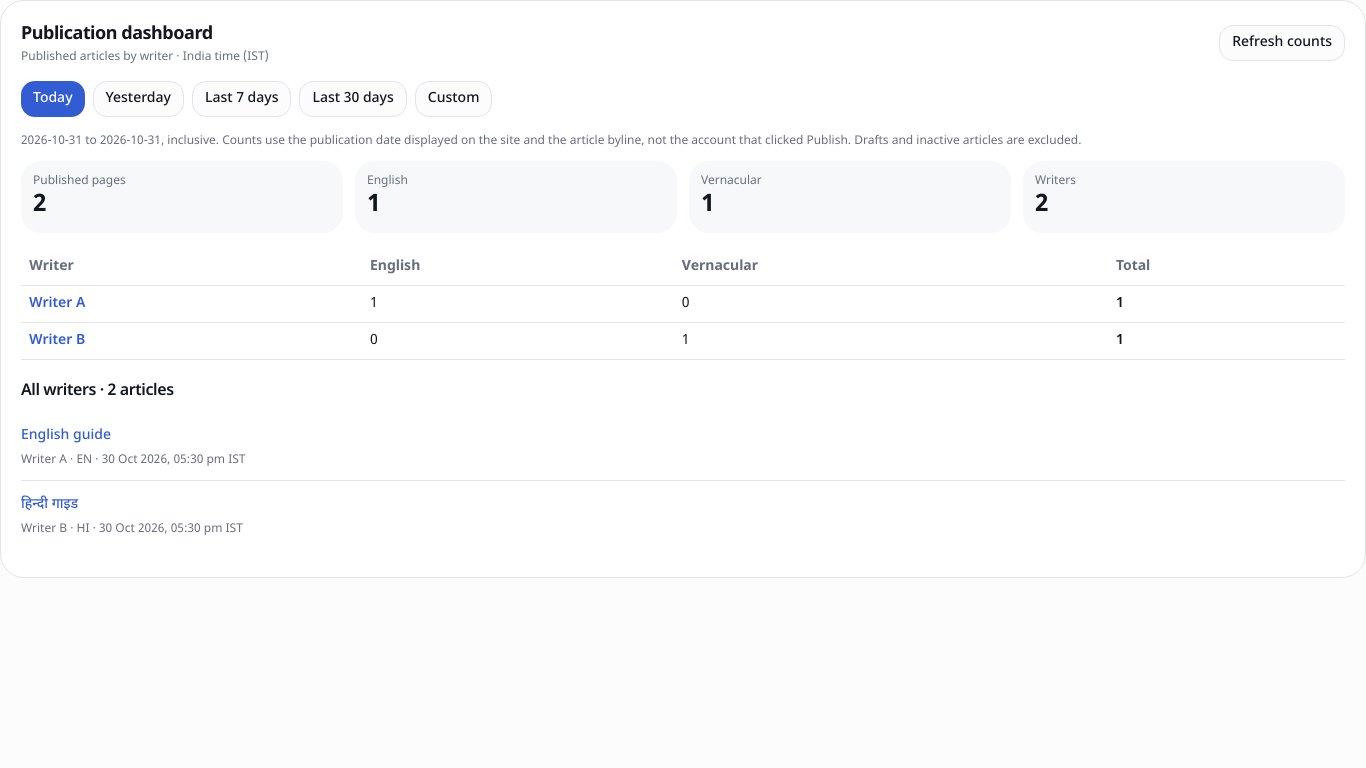
Test: publication dashboard › filters the article list on writer click and validates custom dates
Expected: the link "English guide" is shown, [21,426,111,445]
Click the button "Writer B": (57, 341) [29,331,85,351]
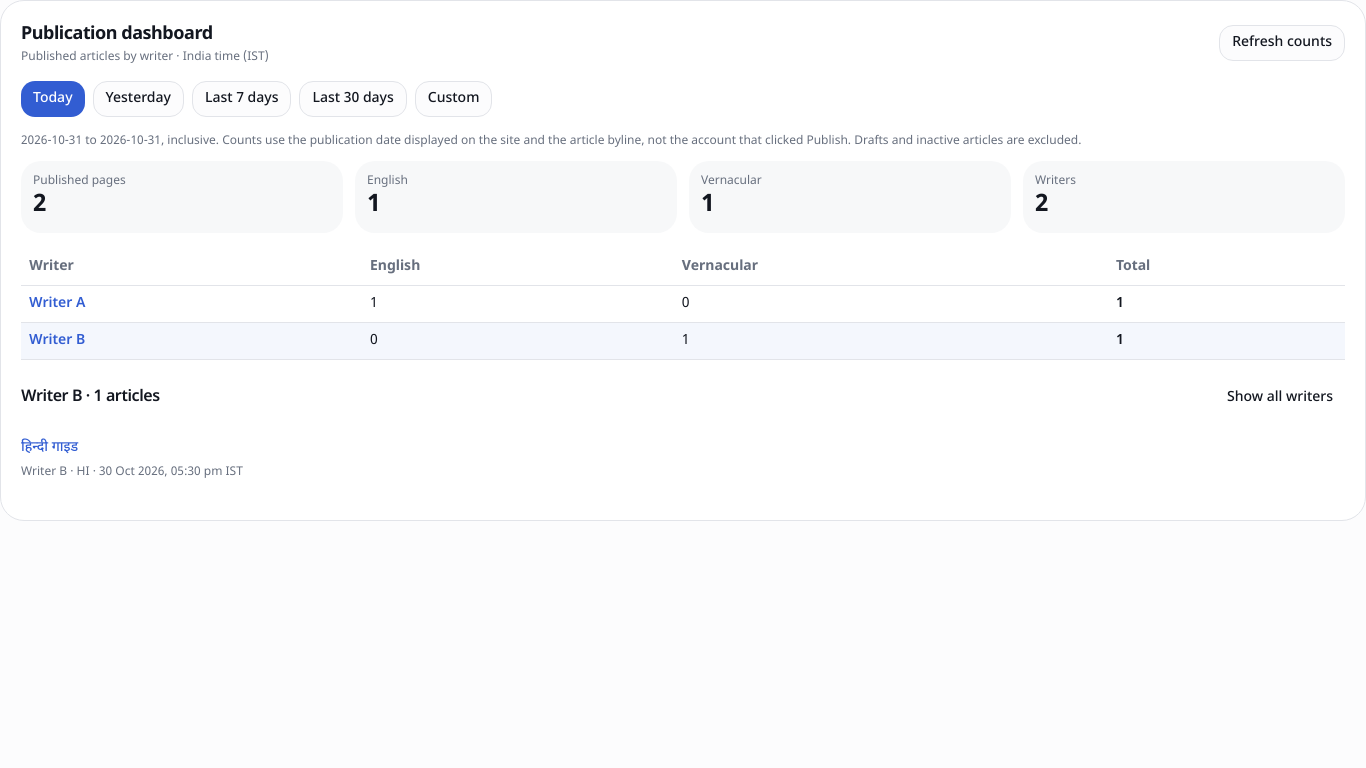
Now the link "English guide" is gone
Click the button "Show all writers": (1280, 398) [1215,380,1345,416]
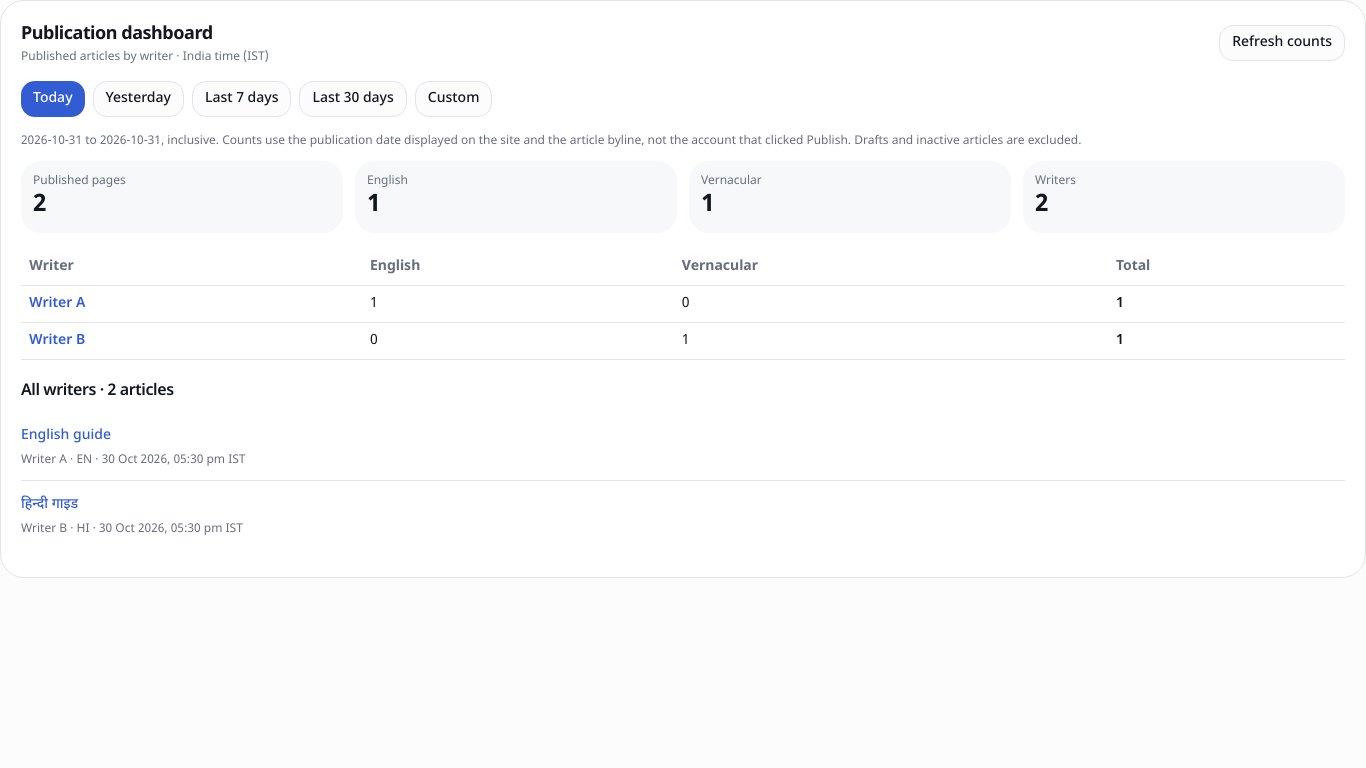
Now the link "English guide" is shown, box [21,426,111,445]
Click the button "Custom": (454, 99) [415,81,492,117]
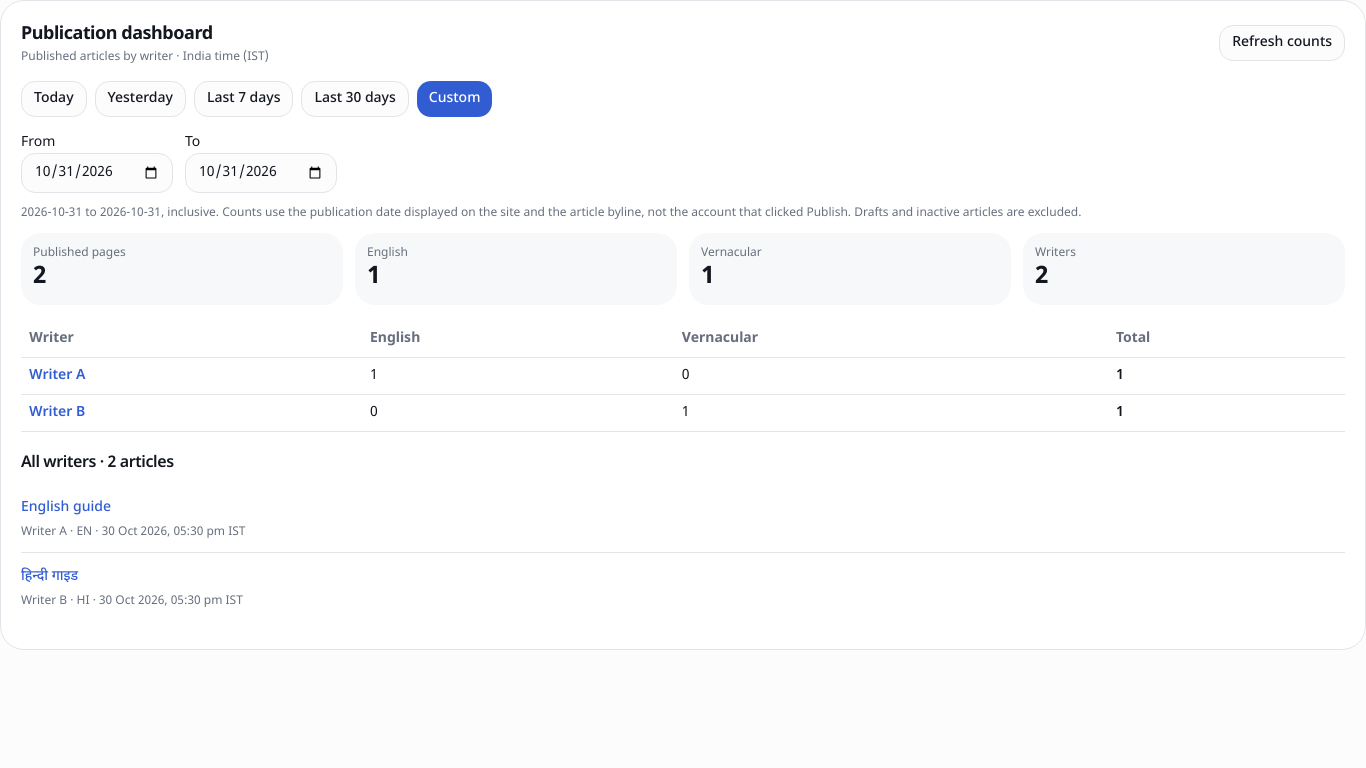
In the date field named "Publication start date": (97, 173) [21,153,173,193], type "2099-01-01"
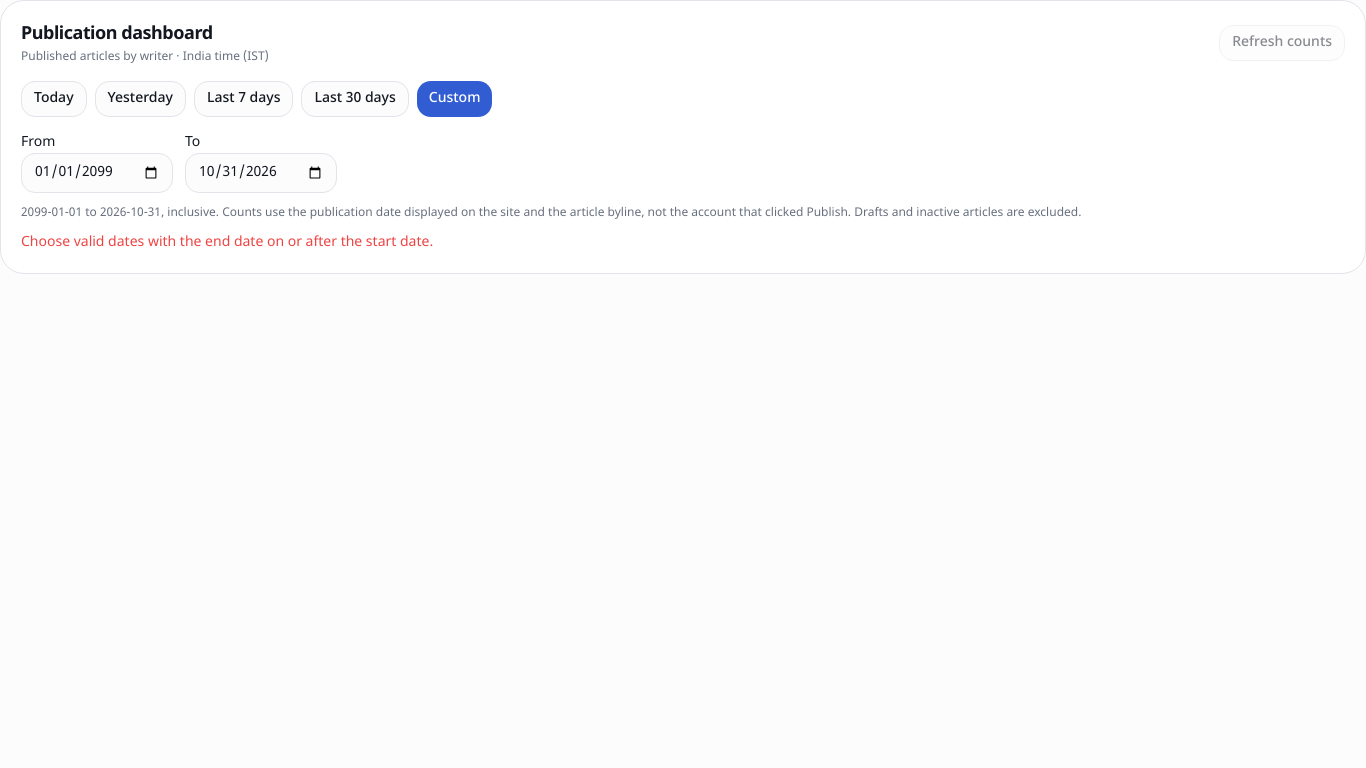
Now the message shows "Choose valid dates", box [21,233,433,252]
